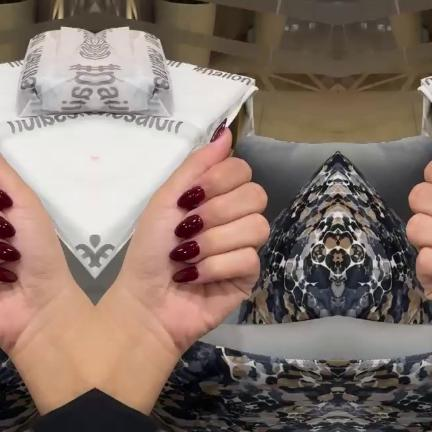Nail: (173, 215, 202, 238), (168, 241, 199, 262), (176, 186, 204, 208), (172, 266, 197, 283), (0, 241, 20, 262), (209, 118, 226, 142), (0, 216, 15, 238), (0, 267, 16, 283), (0, 190, 12, 208)
